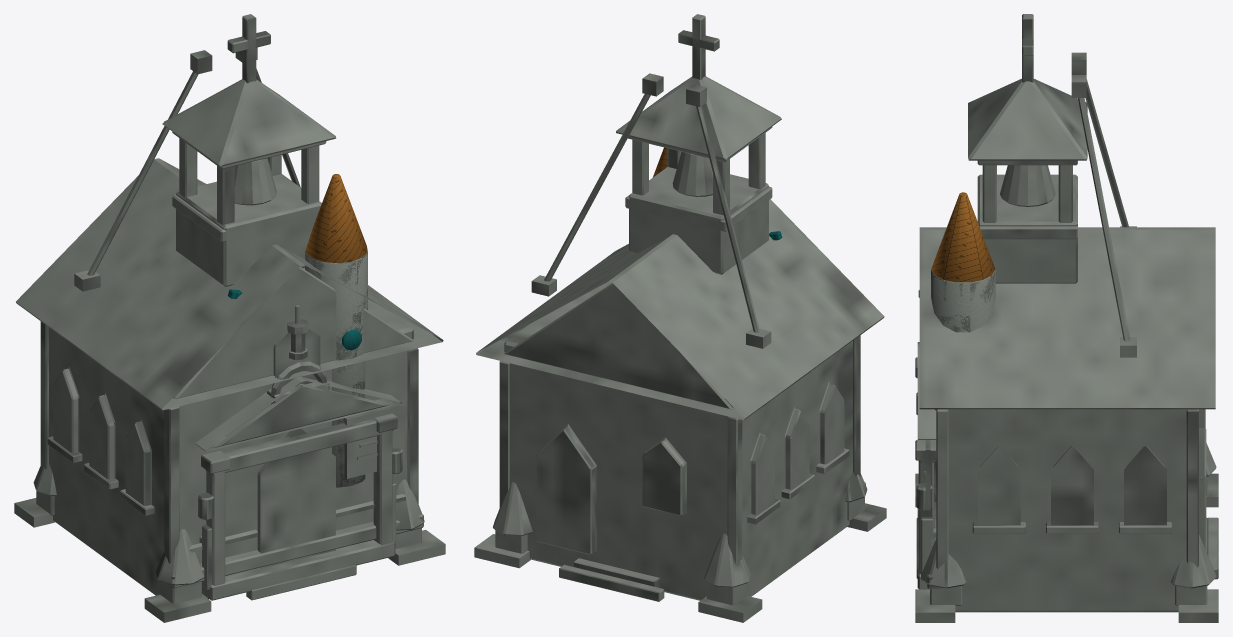
File: chapel.e8.glb
3 views of the same model, side by side, from view 1: azimuth 30°, elevation 25°; view 2: azimuth 150°, elevation 25°; view 3: azimuth 270°, elevation 25° (orthographic). The views are drawn at different scales.
Parts seen in each view (by area): view 1: ChapelE8LaunchPad; view 2: ChapelE8LaunchPad; view 3: ChapelE8LaunchPad.
Part boxes in pixels (bbox=[...]): ChapelE8LaunchPad: bbox=[14, 14, 445, 622]; ChapelE8LaunchPad: bbox=[474, 14, 886, 622]; ChapelE8LaunchPad: bbox=[915, 14, 1218, 622].
Bounding box in the file's own units: 3.46 × 6.25 × 3.19.
Materials: 1 (1 with a texture image).
